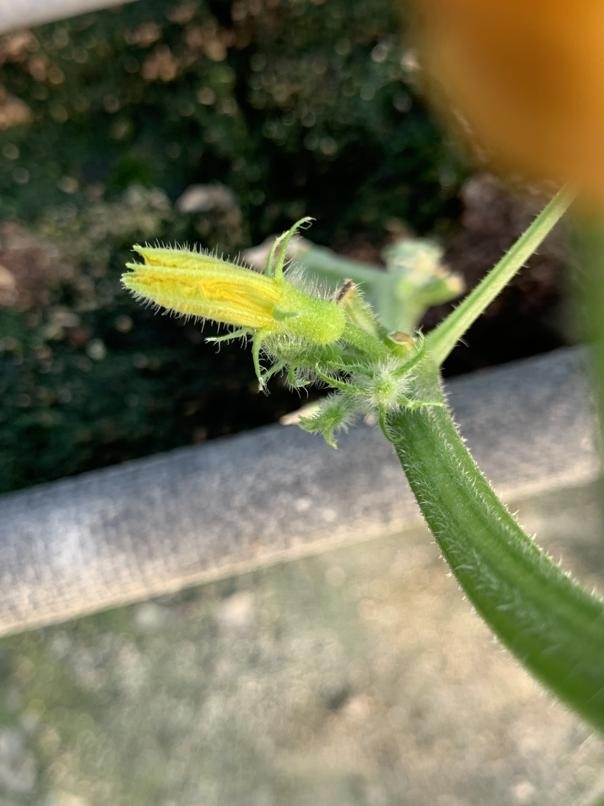bud: (117, 225, 377, 364)
